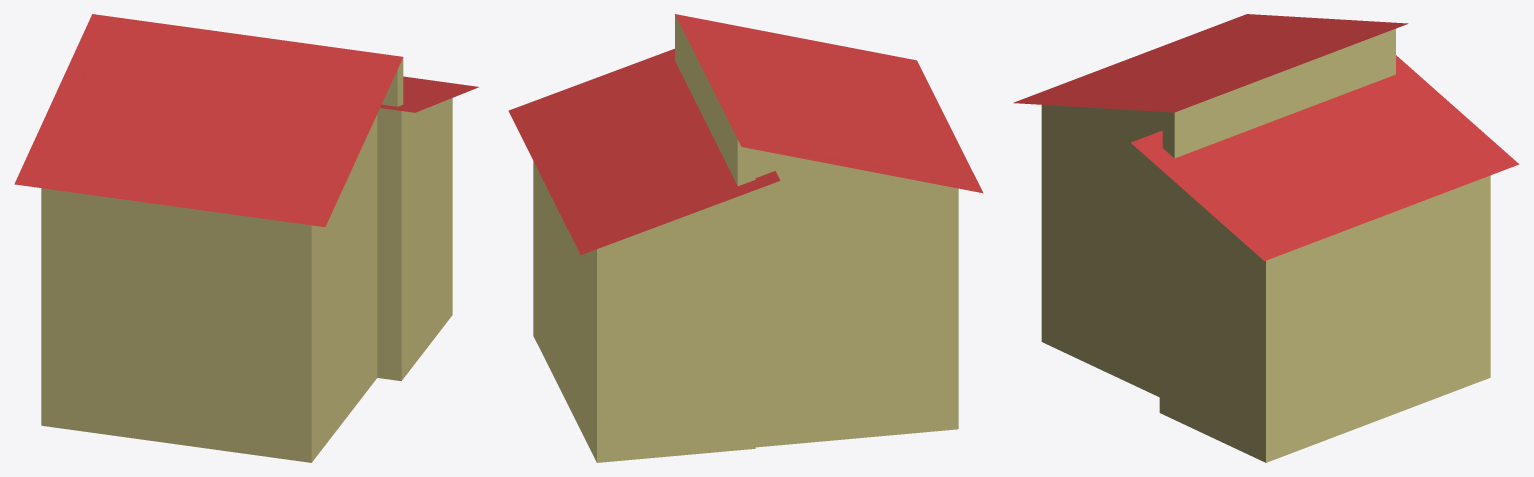
3 views of the same model, side by side, from view 1: azimuth 30°, elevation 25°; view 2: azimuth 150°, elevation 25°; view 3: azimuth 270°, elevation 25° (orthographic). The views are drawn at different scales.
Visible parts, largest first — view 1: group_9, group_7, group_5, group_8, group_3; view 2: group_5, group_9, group_3, group_7, group_8, group_4; view 3: group_5, group_9, group_3, group_7, group_4, group_8.
Part boxes in pixels (x1,y1,x2,y2): group_9: (41,58,403,462); group_7: (15,14,403,227); group_5: (370,98,452,385); group_8: (14,14,162,189); group_3: (398,76,478,112); group_5: (533,161,775,462); group_9: (675,14,958,445); group_3: (508,49,780,254); group_7: (675,14,982,191); group_8: (743,128,982,192); group_4: (513,50,746,254); group_5: (1159,169,1490,462); group_9: (1041,28,1395,397); group_3: (1131,55,1519,260); group_7: (1013,15,1407,112); group_4: (1131,74,1518,258); group_8: (1154,14,1407,55).
Bounding box in the file's own units: 19.21 × 18.45 × 12.23.
